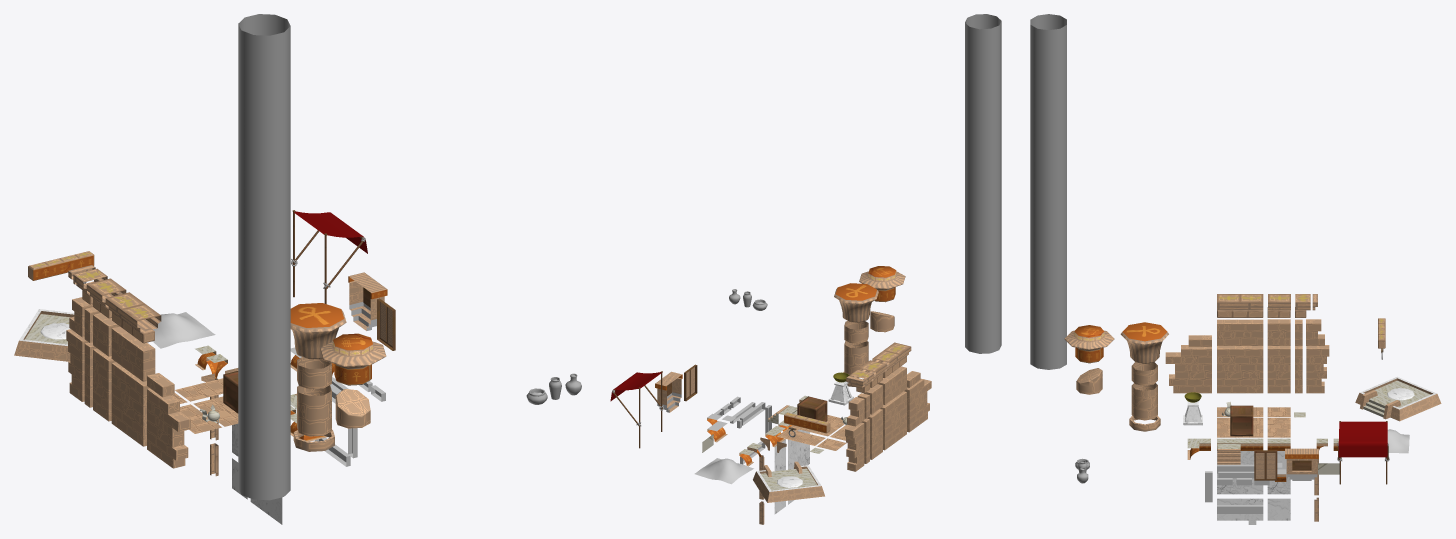
File: ModularAssets.fbx
3 renders of one model, left to right at view 1: azimuth 30°, elevation 25°; view 2: azimuth 150°, elevation 25°; view 3: azimuth 270°, elevation 25°, orthographic. The views are drawn at different scales.
Parts seen in each view (by area): view 1: FallingSand, BrickWallBrokenx5, BrickWall4x4, Pillar_Top2, Pillar_Top, Shrine, Canopy2, Pillar_Midx2, BrickWall4x2, Window2, Sand1, BigOrnamentx4 (+8 smaller); view 2: FallingSand, Shrine, Pillar_Top, BrickWall4x4, Pillar_Top2, BrickWallBrokenx5, Canopy2, Sand1, BrickWallBrokenx2, Window2, Pillar_Midx2, BrickWall4x2 (+7 smaller); view 3: FallingSand, Shrine, BrickWall4x4, Canopy2, BrickWallBrokenx5, Pillar_Top, Pillar_Top2, BrickWall4x2, BrickWall2x4, Window2, BrickWallBrokenx2, Pillar_Midx2 (+12 smaller).
Part boxes in pixels (x1=…): FallingSand: x1=238, y1=14, x2=290, y2=500; BrickWallBrokenx5: x1=147, y1=388, x2=190, y2=468; BrickWall4x4: x1=111, y1=362, x2=149, y2=446; Pillar_Top2: x1=320, y1=333, x2=386, y2=385; Pillar_Top: x1=290, y1=303, x2=346, y2=359; Shrine: x1=14, y1=309, x2=74, y2=361; Canopy2: x1=291, y1=210, x2=367, y2=303; Pillar_Midx2: x1=297, y1=385, x2=331, y2=436; BrickWall4x2: x1=111, y1=326, x2=155, y2=381; Window2: x1=348, y1=272, x2=387, y2=330; Sand1: x1=152, y1=312, x2=215, y2=348; BigOrnamentx4: x1=105, y1=292, x2=161, y2=332; FallingSand: x1=965, y1=14, x2=1001, y2=353; Shrine: x1=753, y1=461, x2=824, y2=502; Pillar_Top: x1=834, y1=283, x2=878, y2=322; BrickWall4x4: x1=880, y1=391, x2=906, y2=450; Pillar_Top2: x1=859, y1=266, x2=905, y2=302; BrickWallBrokenx5: x1=904, y1=378, x2=931, y2=432; Canopy2: x1=610, y1=371, x2=663, y2=448; Sand1: x1=694, y1=458, x2=753, y2=484; BrickWallBrokenx2: x1=845, y1=422, x2=864, y2=471; Window2: x1=655, y1=371, x2=682, y2=412; Pillar_Midx2: x1=844, y1=340, x2=868, y2=375; BrickWall4x2: x1=878, y1=366, x2=906, y2=404; FallingSand: x1=1030, y1=14, x2=1066, y2=369; Shrine: x1=1355, y1=376, x2=1441, y2=421; BrickWall4x4: x1=1217, y1=346, x2=1263, y2=393; Canopy2: x1=1337, y1=421, x2=1389, y2=484; BrickWallBrokenx5: x1=1165, y1=345, x2=1211, y2=393; Pillar_Top: x1=1120, y1=322, x2=1168, y2=363; Pillar_Top2: x1=1064, y1=325, x2=1114, y2=363; BrickWall4x2: x1=1217, y1=319, x2=1263, y2=345; BrickWall2x4: x1=1267, y1=346, x2=1290, y2=393; Window2: x1=1285, y1=448, x2=1318, y2=480; BrickWallBrokenx2: x1=1306, y1=345, x2=1329, y2=393; Pillar_Midx2: x1=1131, y1=383, x2=1157, y2=420.
Size of the model in its own units: 15.88 by 25.83 by 21.33.
